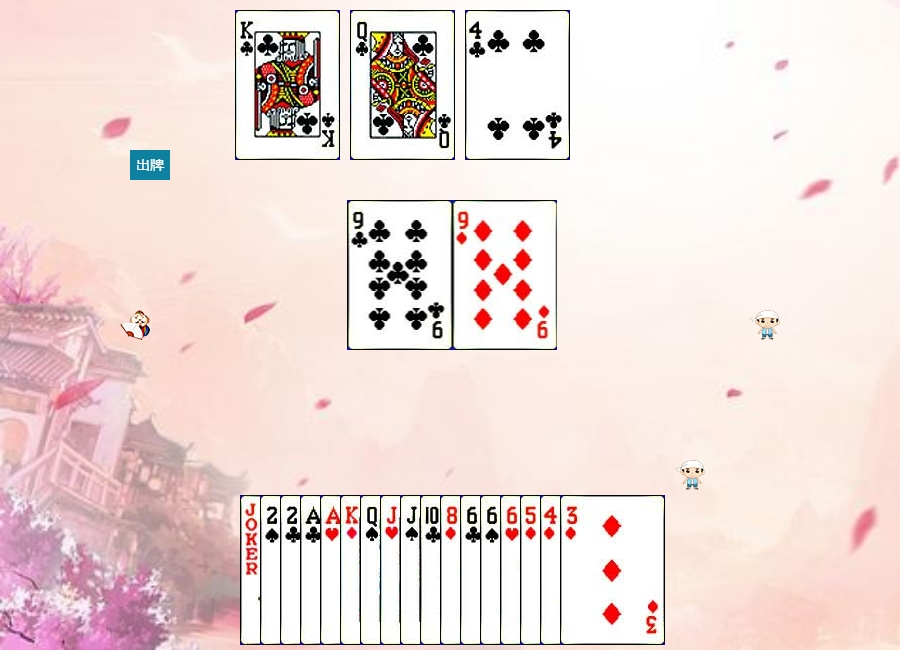10~2: (420, 495, 525, 645)
11~3: (380, 495, 485, 645)
11~4: (400, 495, 505, 645)
12~2: (350, 10, 455, 160)
12~4: (360, 495, 465, 645)
13~1: (340, 495, 445, 645)
13~2: (235, 10, 340, 160)
14~2: (300, 495, 405, 645)
14~3: (320, 495, 425, 645)
15~2: (280, 495, 385, 645)
15~4: (260, 495, 365, 645)
18~4: (240, 495, 345, 645)
3~1: (560, 495, 665, 645)
4~1: (540, 495, 645, 645)
4~2: (465, 10, 570, 160)
5~1: (520, 495, 625, 645)
6~2: (460, 495, 565, 645)
6~3: (500, 495, 605, 645)
6~4: (480, 495, 585, 645)
8~1: (440, 495, 545, 645)
9~1: (453, 200, 558, 350)
9~2: (348, 200, 453, 350)
